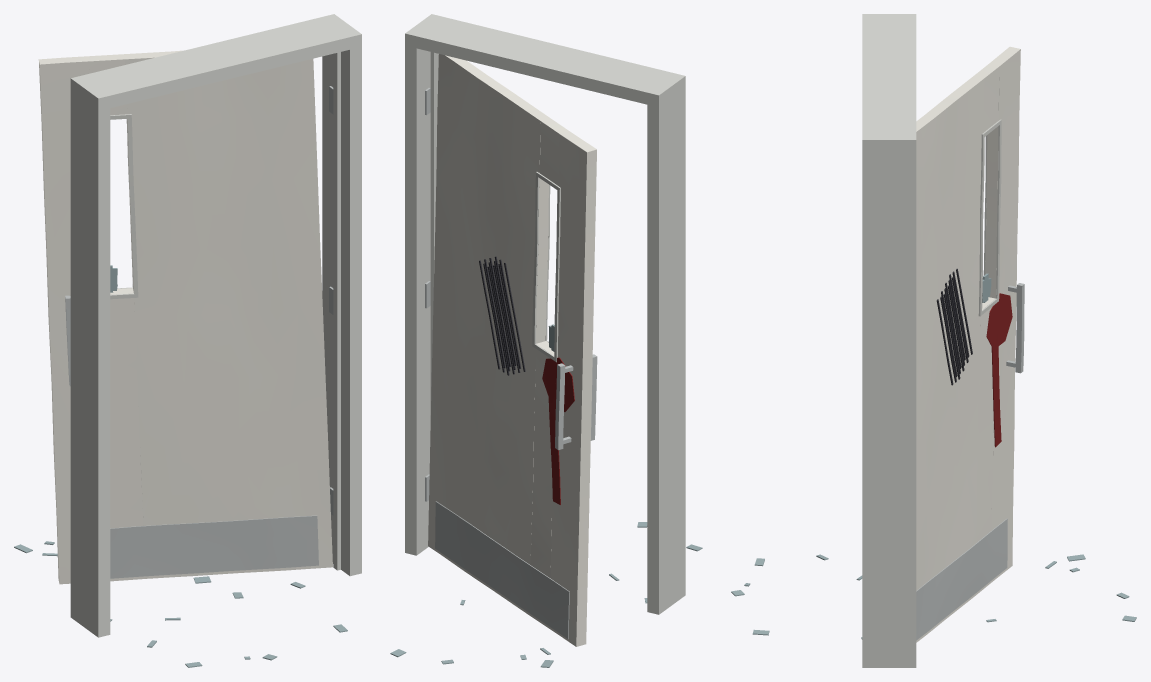
The model's file is ward_door_broken.fbx.
3 views of the same model, side by side, from view 1: azimuth 30°, elevation 25°; view 2: azimuth 150°, elevation 25°; view 3: azimuth 270°, elevation 25° (orthographic). The views are drawn at different scales.
Visible parts, largest first — view 1: ward_door_broken, ward_door_broken_glass; view 2: ward_door_broken, ward_door_broken_glass; view 3: ward_door_broken, ward_door_broken_glass.
Part boxes in pixels (<box>): ward_door_broken: <box>38,14,361,637</box>; ward_door_broken_glass: <box>14,265,347,667</box>; ward_door_broken: <box>405,14,685,646</box>; ward_door_broken_glass: <box>390,324,702,667</box>; ward_door_broken: <box>862,14,1024,667</box>; ward_door_broken_glass: <box>731,273,1136,639</box>.
Bounding box in the file's own units: 110 × 218 × 150.
